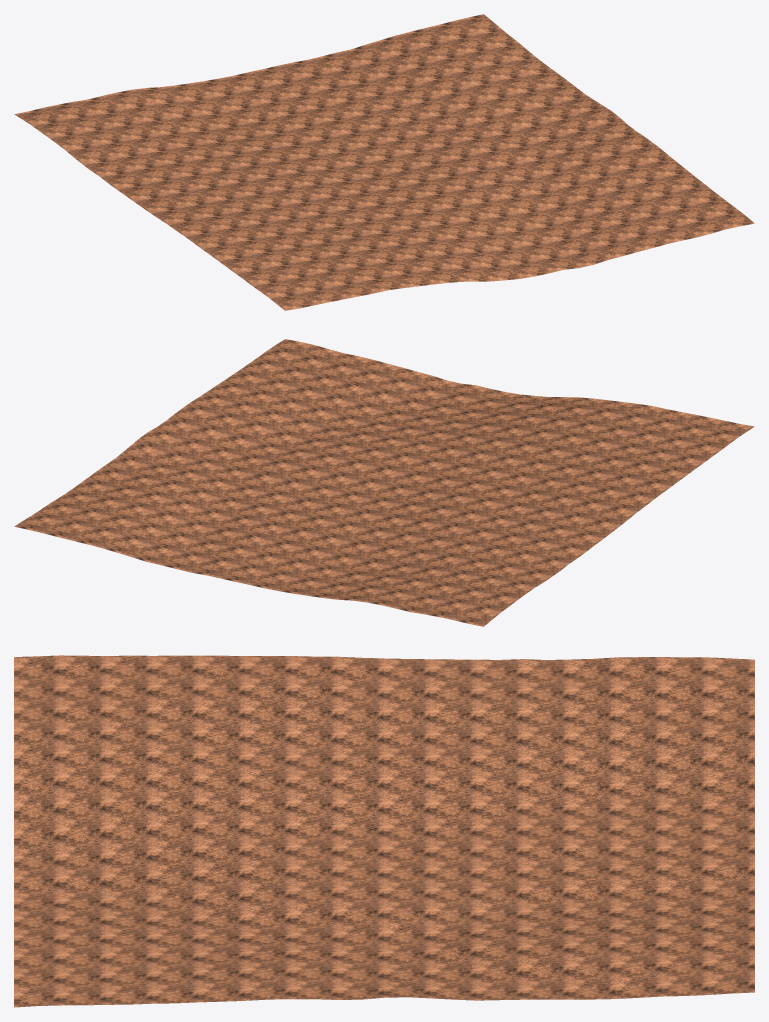
File: terrain_08_16.dae
3 views of the same model, one above another, from view 1: azimuth 30°, elevation 25°; view 2: azimuth 150°, elevation 25°; view 3: azimuth 270°, elevation 25° (orthographic). The views are drawn at different scales.
Visible parts, largest first — view 1: terrain_08_16-node; view 2: terrain_08_16-node; view 3: terrain_08_16-node.
Boxes of the visible parts, <box> form: terrain_08_16-node: <box>14,14,754,310</box>; terrain_08_16-node: <box>14,339,754,626</box>; terrain_08_16-node: <box>14,655,754,1007</box>.
Size of the model in its own units: 128 by 128 by 7.91.
Materials: 1 (1 with a texture image).
